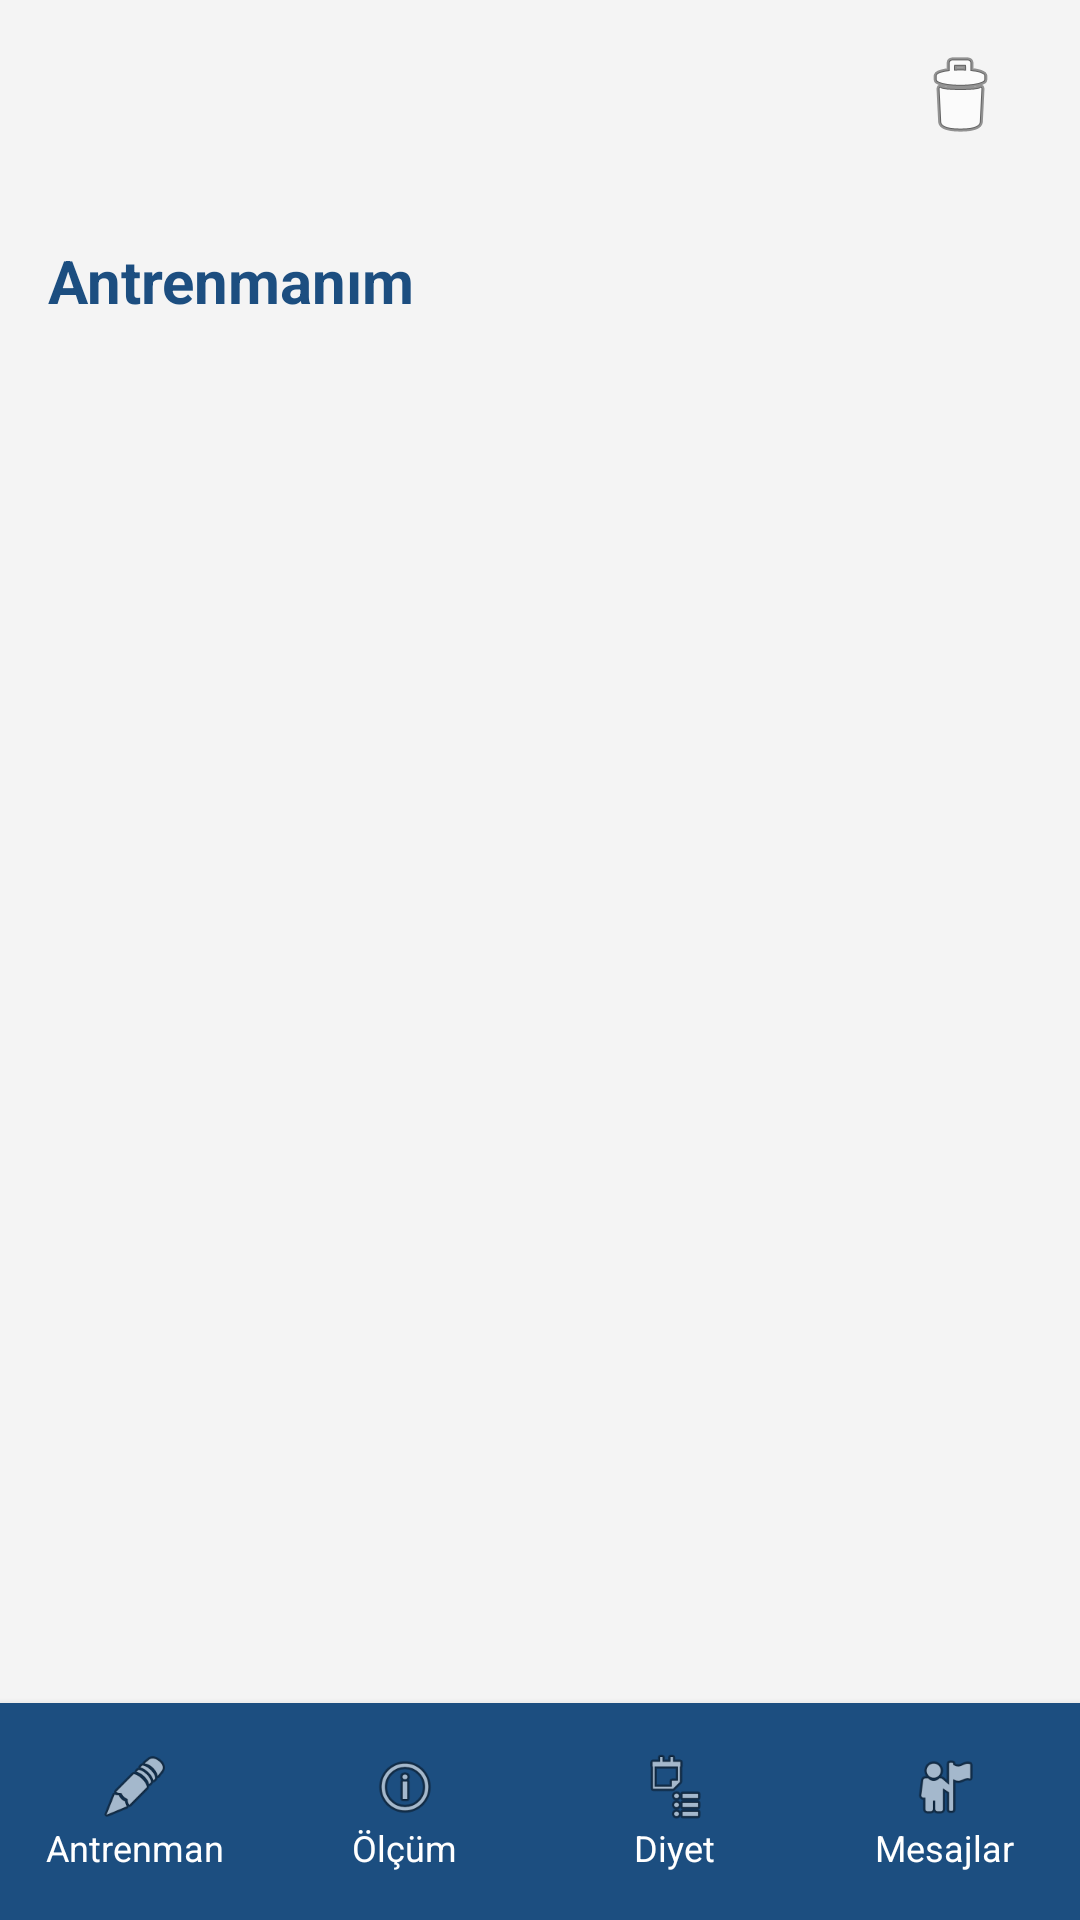

Icon click points for this 1080 × 1920 phone screenshot, format [x,y]:
Sil: [960,94]
